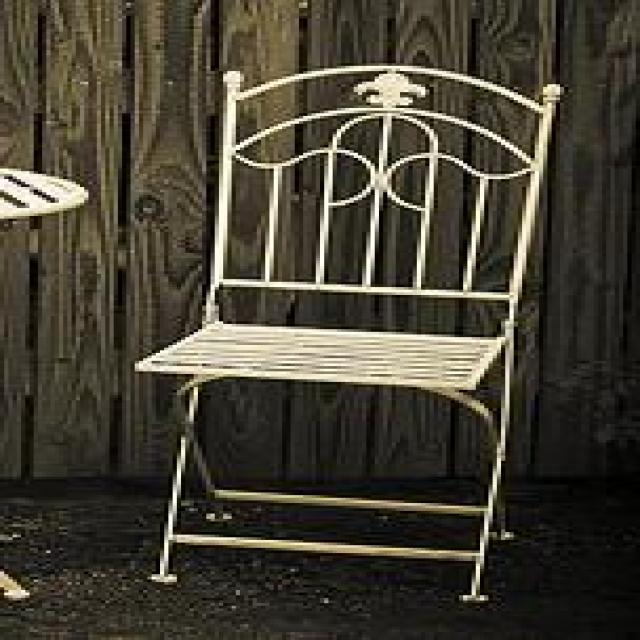chair: (130, 66, 566, 608)
